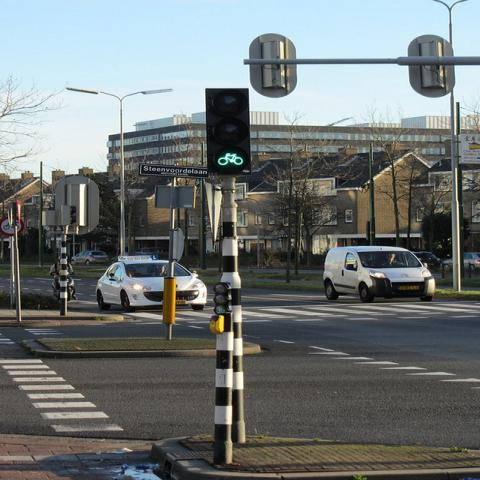car: (94, 260, 208, 312), (438, 253, 479, 274), (70, 251, 109, 265), (411, 251, 440, 269)
truck: (320, 244, 435, 304)
